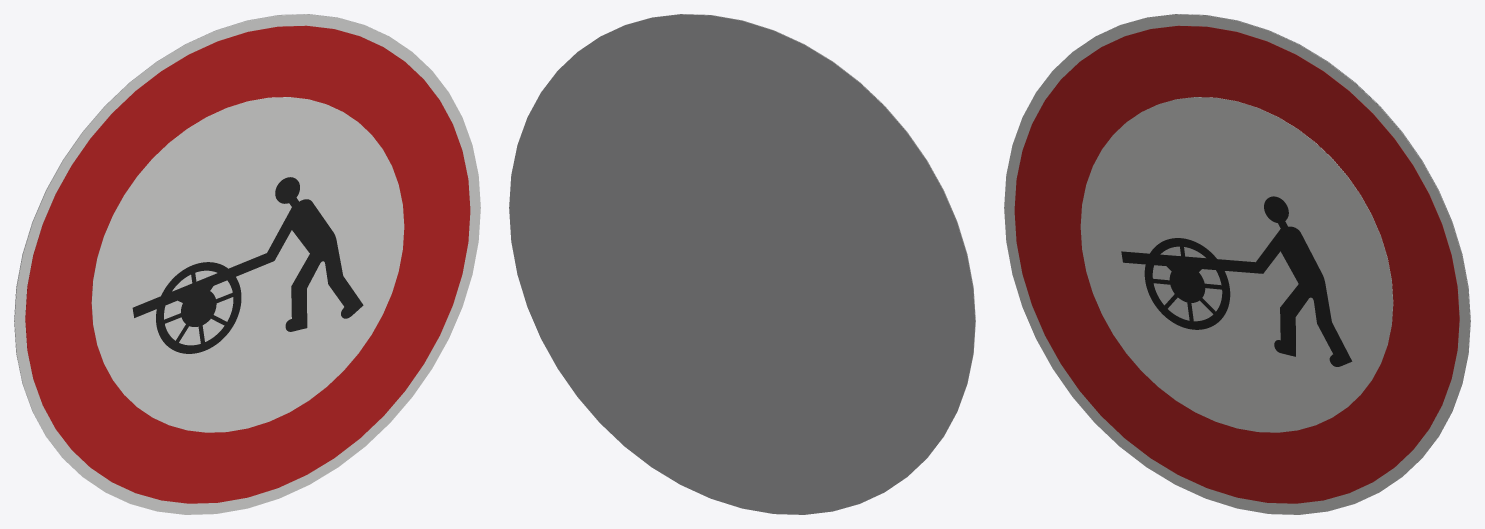
3 views of the same model, side by side, from view 1: azimuth 30°, elevation 25°; view 2: azimuth 150°, elevation 25°; view 3: azimuth 330°, elevation 25° (orthographic).
Visible parts, largest first — view 1: B9e_p01, B9e_p02, B9e_p00, B9e_p03, B9e_dos; view 2: B9e_dos, B9e_p00; view 3: B9e_p01, B9e_p02, B9e_p00, B9e_p03, B9e_dos.
Boxes of the visible parts, box(x1,y1,x2,y2) form: B9e_p01: box(25, 25, 470, 503); B9e_p02: box(91, 97, 404, 432); B9e_p00: box(14, 14, 480, 514); B9e_p03: box(132, 177, 363, 353); B9e_dos: box(14, 14, 385, 473); B9e_dos: box(509, 14, 975, 514); B9e_p00: box(604, 14, 975, 473); B9e_p01: box(1014, 25, 1459, 503); B9e_p02: box(1080, 97, 1393, 432); B9e_p00: box(1004, 14, 1470, 514); B9e_p03: box(1121, 196, 1352, 366); B9e_dos: box(1099, 14, 1470, 473).
Bounding box in the file's own units: 0.85 × 0.8498 × 0.0031.
